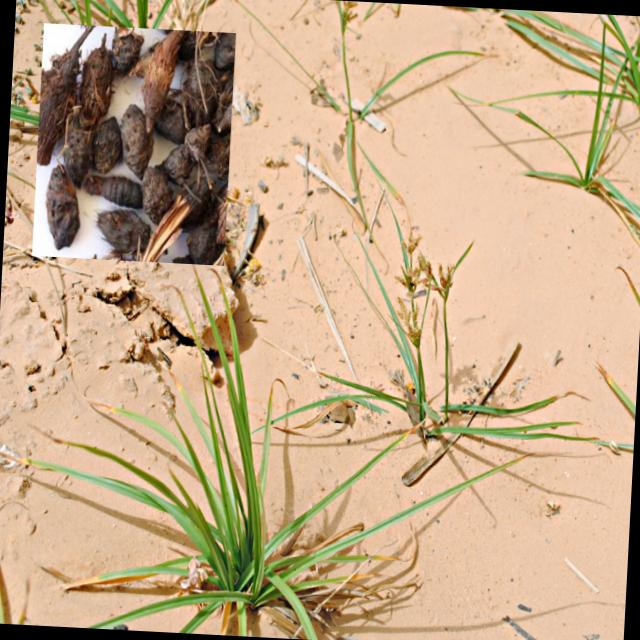cyperus: (392, 229, 460, 350)
